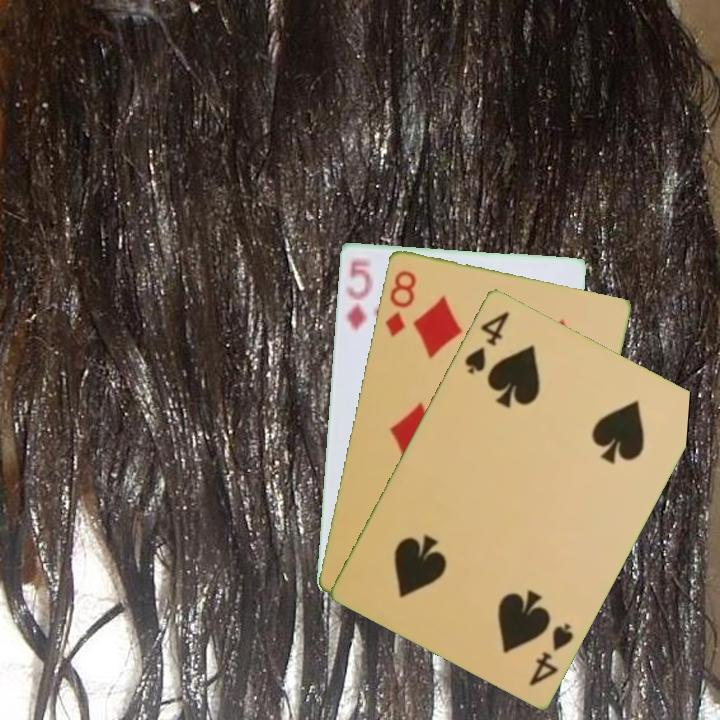4s: (525, 619, 577, 689), (461, 307, 512, 377)
5d: (341, 253, 375, 334)
8d: (381, 266, 419, 339)
